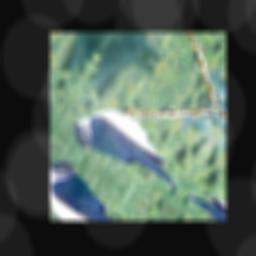Swallow: (63, 77, 198, 209)
